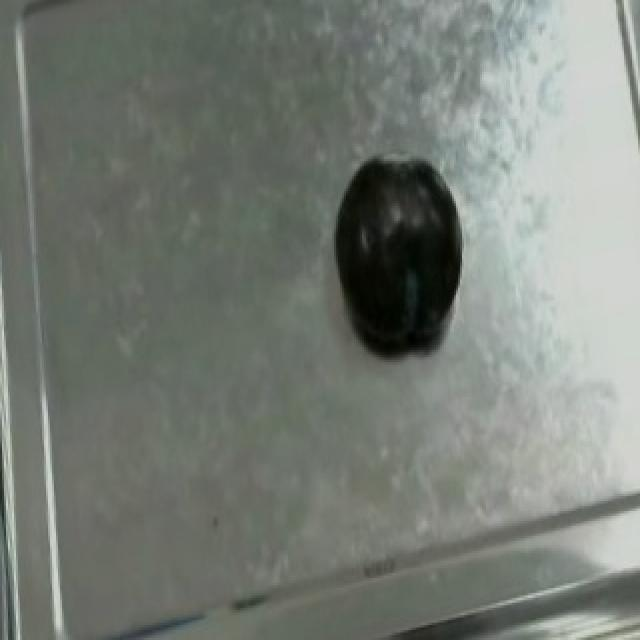Fruit: (320, 144, 468, 360)
